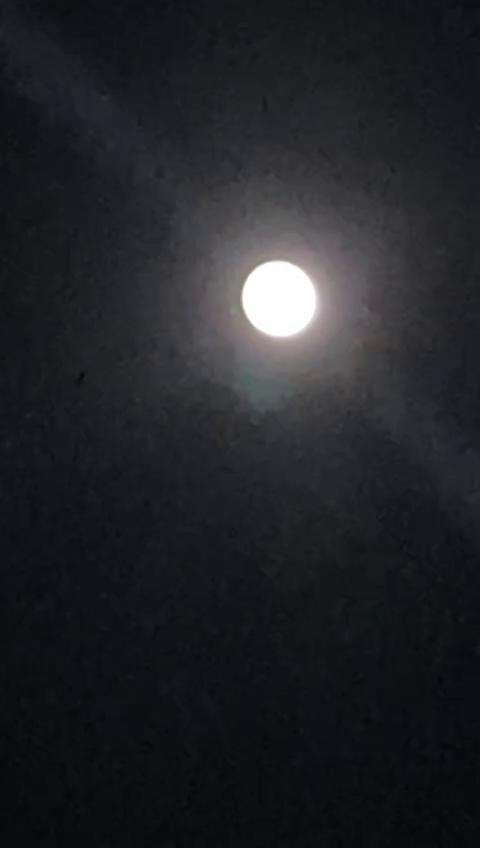moon: (228, 260, 322, 352)
